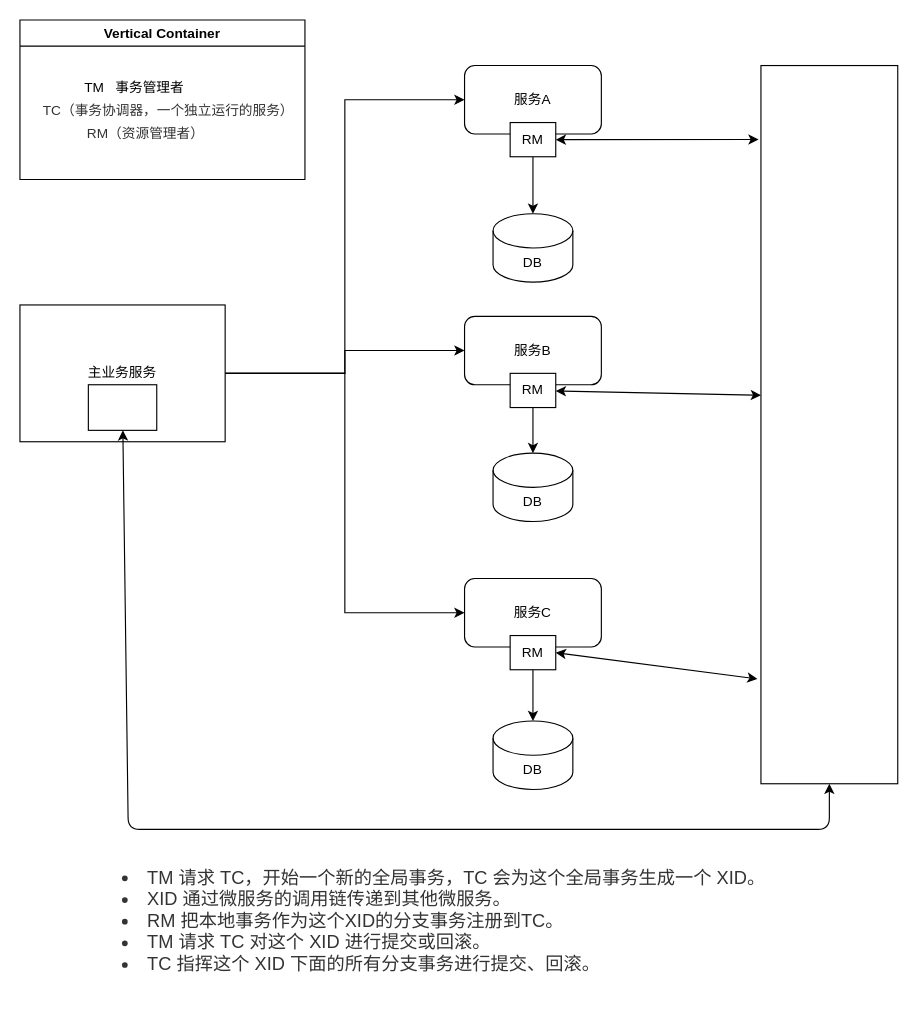
Some shapes in this 918 by 1018 pixel diagram are drawn without their labels. Each missing label, with the centre of its shape:
"TC" goes at point (829, 424).
"TM" goes at point (122, 407).
